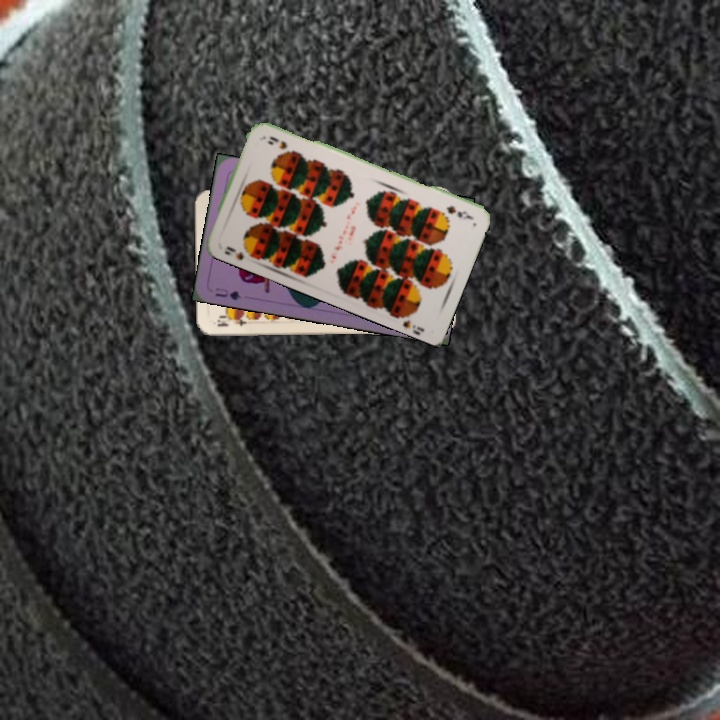E10: (213, 313, 249, 329)
GU: (211, 284, 243, 303)
S9: (221, 242, 256, 263), (442, 202, 475, 222)
